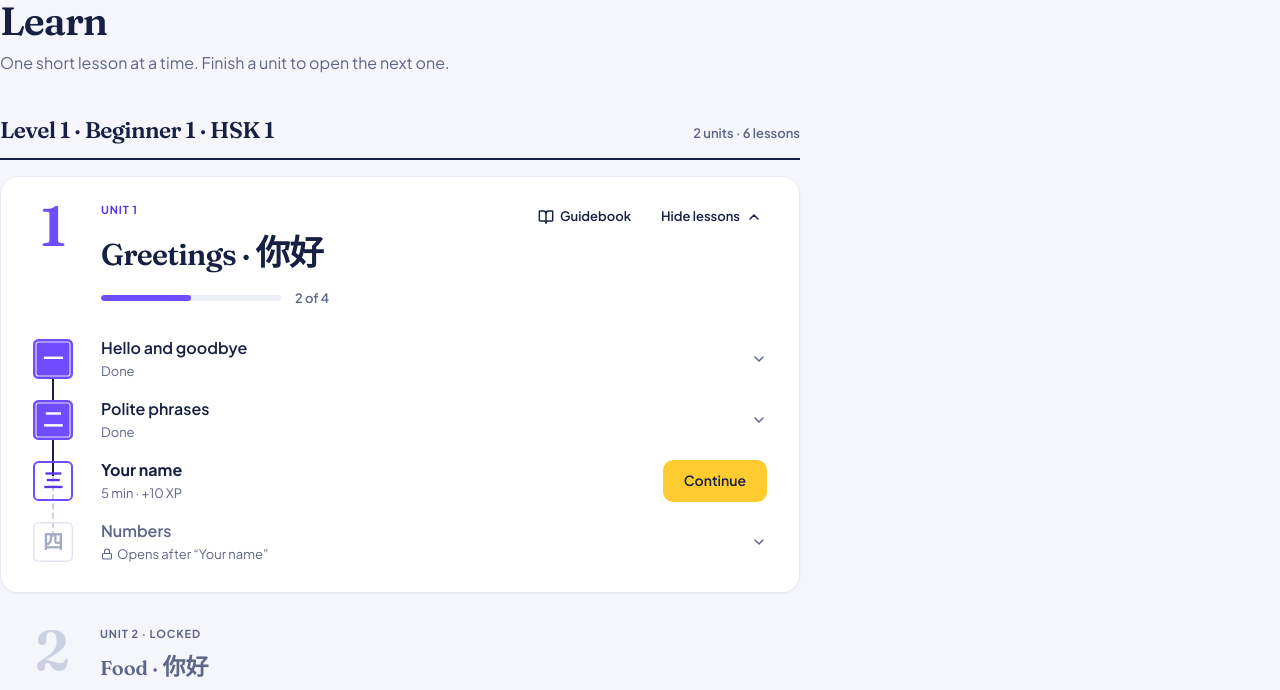
Test: StudentLearnPage (Learn path) › opens a lesson card with Start for an open lesson and what to finish first for a locked one
Click the button with test id "stop-13" at coordinates (53, 481), box x1=25 y1=450 x2=651 y2=511
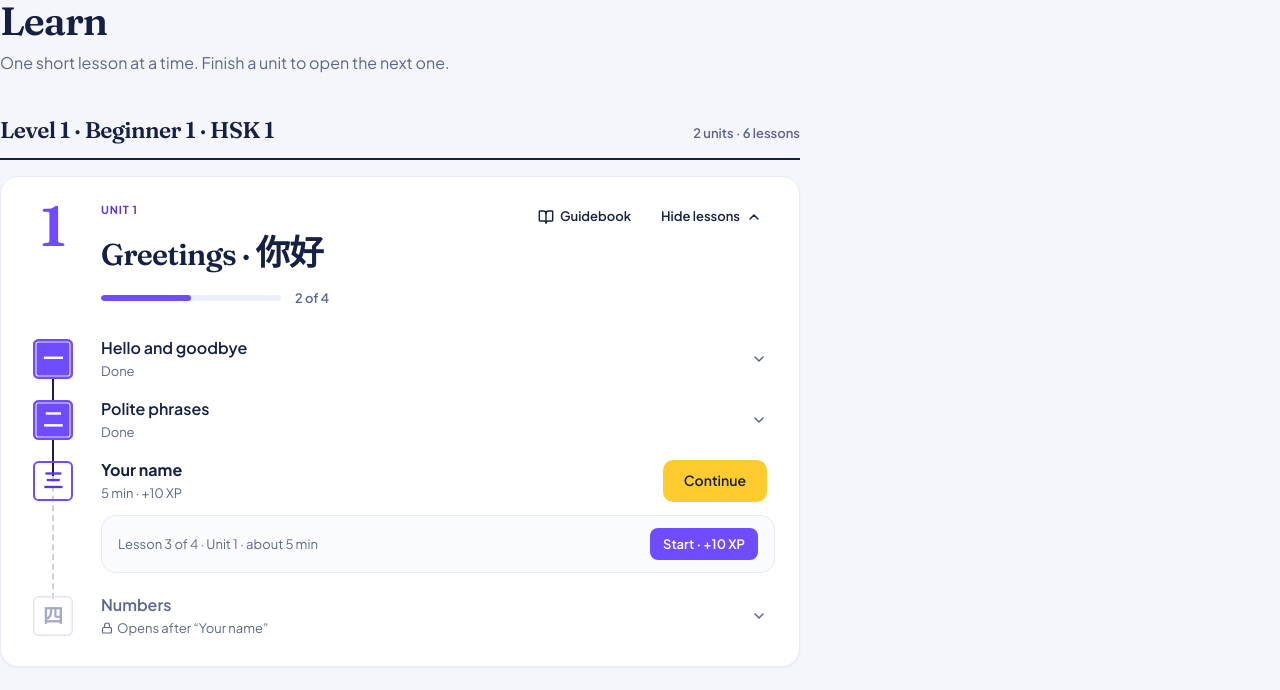
Expected: the link with test id "start-13" reads "Start · +10 XP", x1=650 y1=528 x2=758 y2=560
Click the button with test id "stop-14" at coordinates (53, 616), box x1=25 y1=585 x2=775 y2=646
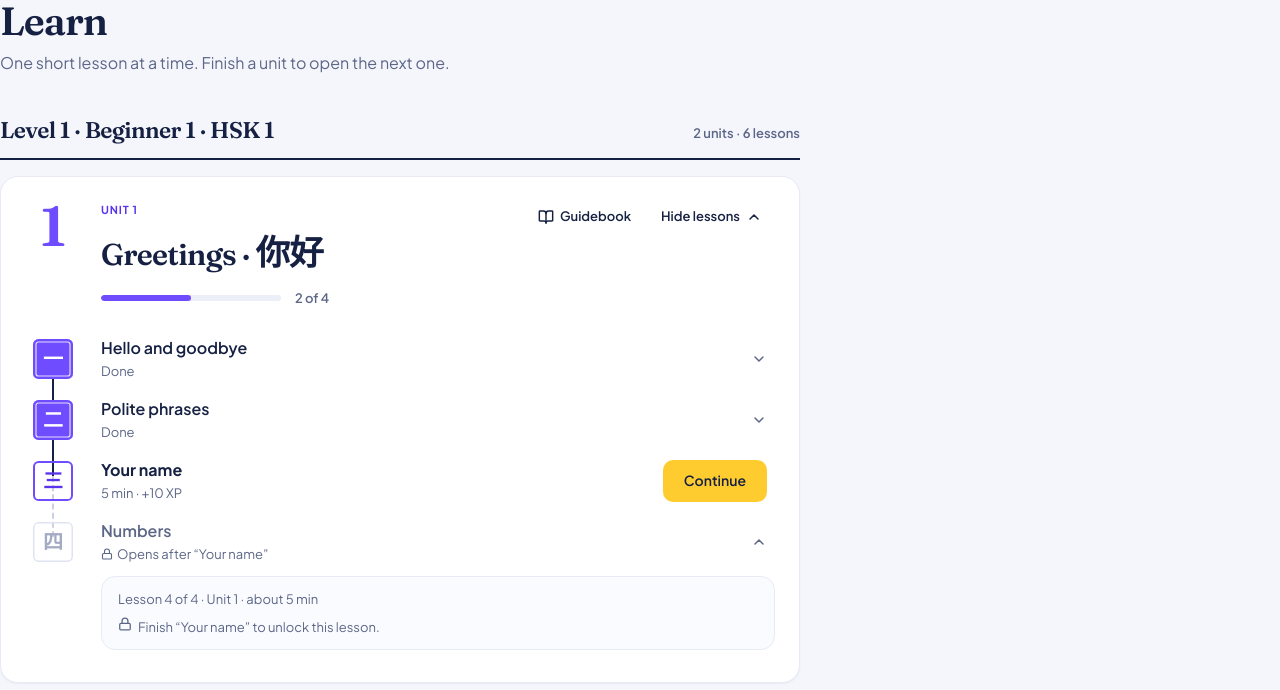
Expected: the dialog shows "Finish “Your name” to unlock this lesson.", x1=138 y1=619 x2=380 y2=635
